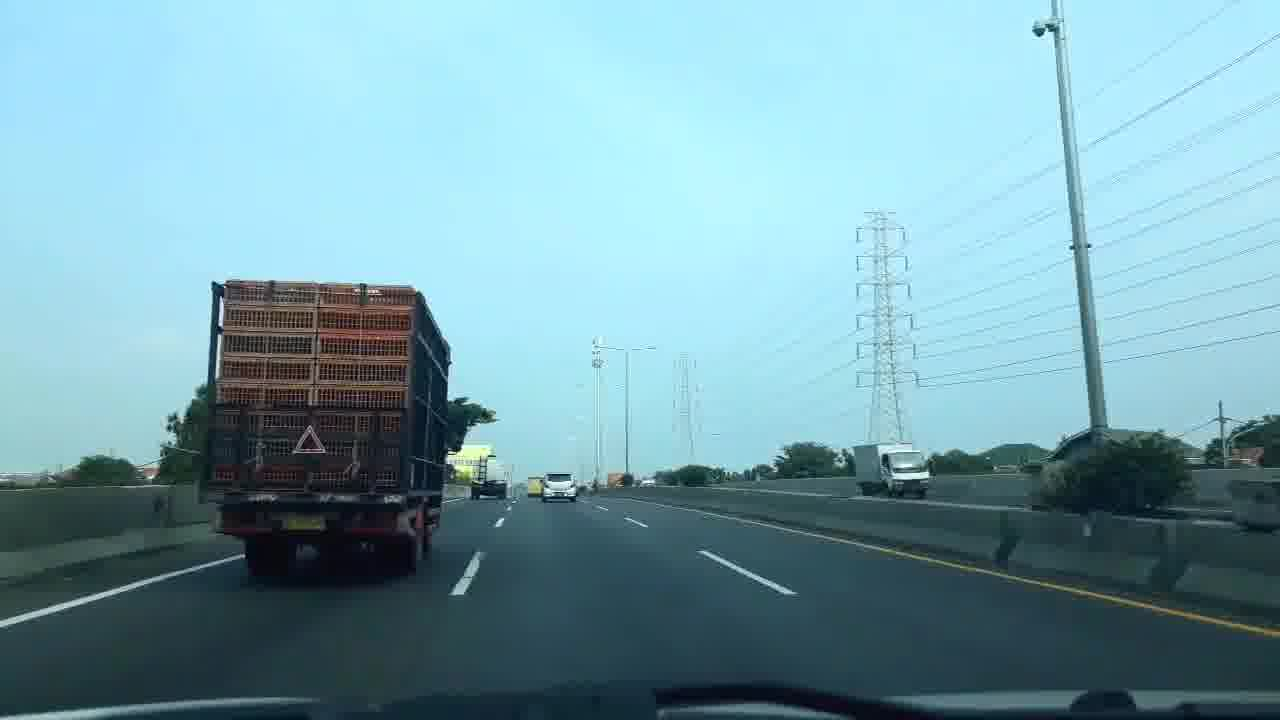plate_positive: (281, 513, 327, 531)
